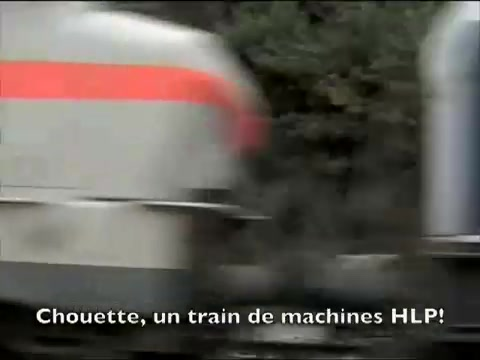train: (1, 3, 276, 315)
